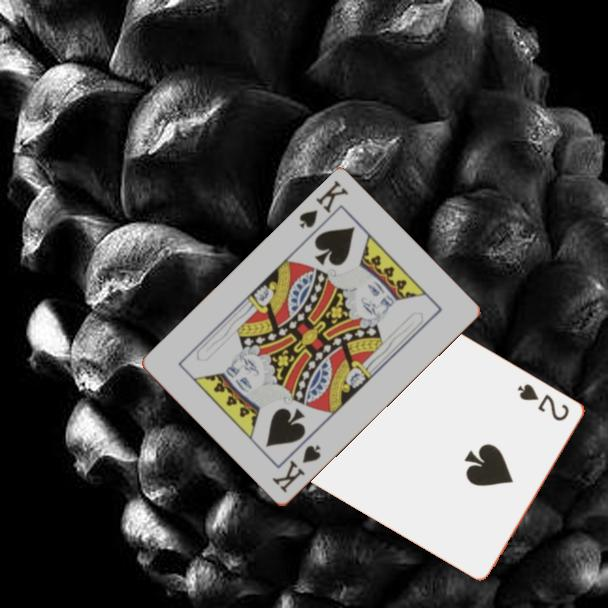s02: (514, 380, 573, 424)
s13: (268, 441, 324, 496), (296, 177, 352, 232)
